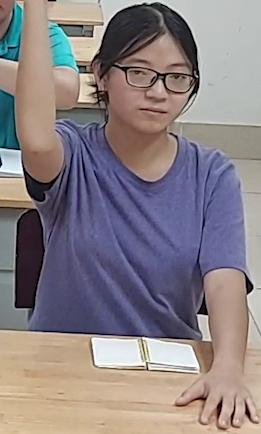Raising_Hand: (0, 0, 261, 432)
